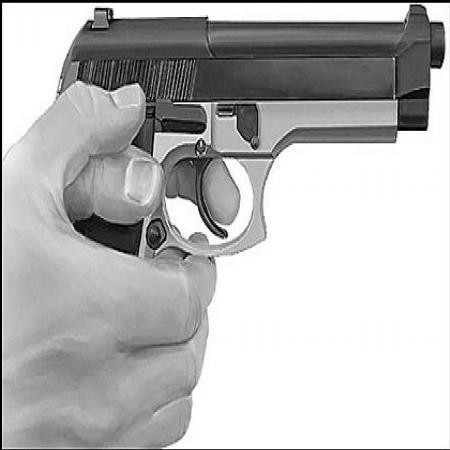Pistol: (60, 2, 448, 265)
